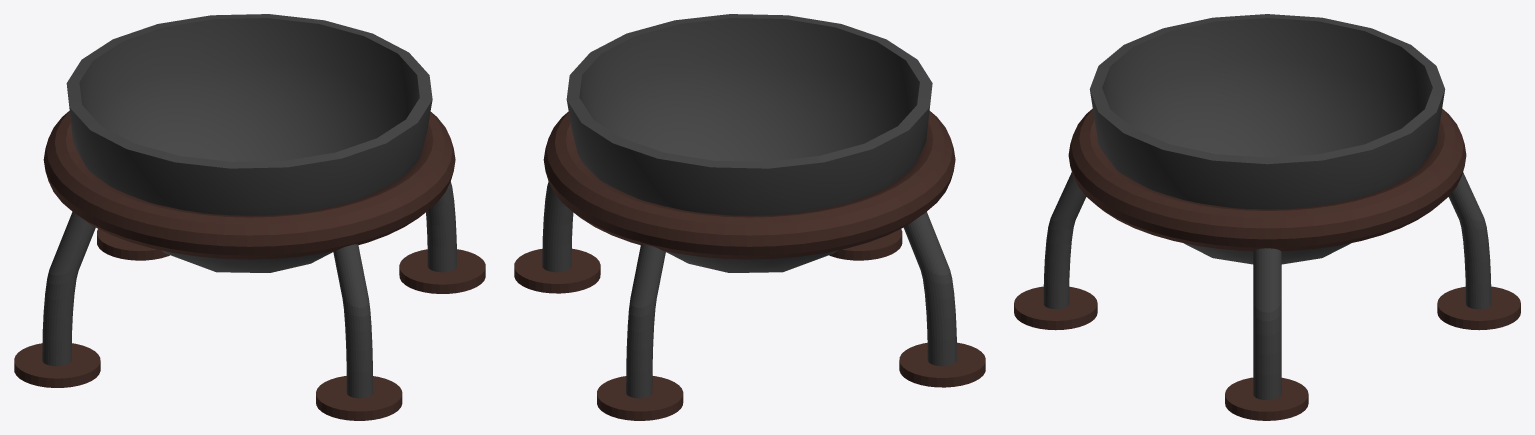
File: FirePit.fbx
3 renders of one model, left to right at view 1: azimuth 30°, elevation 25°; view 2: azimuth 150°, elevation 25°; view 3: azimuth 270°, elevation 25°, orthographic. The views are drawn at different scales.
Parts seen in each view (by area): view 1: Icosphere, Torus, Cylinder, Cylinder.003, Cylinder.001, Cylinder.002; view 2: Icosphere, Torus, Cylinder, Cylinder.003, Cylinder.001, Cylinder.002; view 3: Icosphere, Torus, Cylinder.001, Cylinder.002, Cylinder, Cylinder.003.
Boxes of the visible parts, x1,y1,x2,y2 form: Icosphere: [66, 14, 432, 272]; Torus: [43, 111, 455, 259]; Cylinder: [42, 181, 456, 366]; Cylinder.003: [14, 249, 485, 387]; Cylinder.001: [333, 244, 373, 398]; Cylinder.002: [97, 229, 402, 420]; Icosphere: [566, 14, 932, 272]; Torus: [543, 111, 955, 259]; Cylinder: [542, 182, 956, 366]; Cylinder.003: [514, 248, 985, 387]; Cylinder.001: [626, 244, 665, 398]; Cylinder.002: [597, 229, 902, 420]; Icosphere: [1089, 14, 1445, 264]; Torus: [1068, 108, 1466, 251]; Cylinder.001: [1043, 172, 1491, 309]; Cylinder.002: [1014, 286, 1520, 330]; Cylinder: [1253, 248, 1281, 400]; Cylinder.003: [1225, 377, 1308, 420].
Size of the model in its own units: 289 by 140 by 285.
